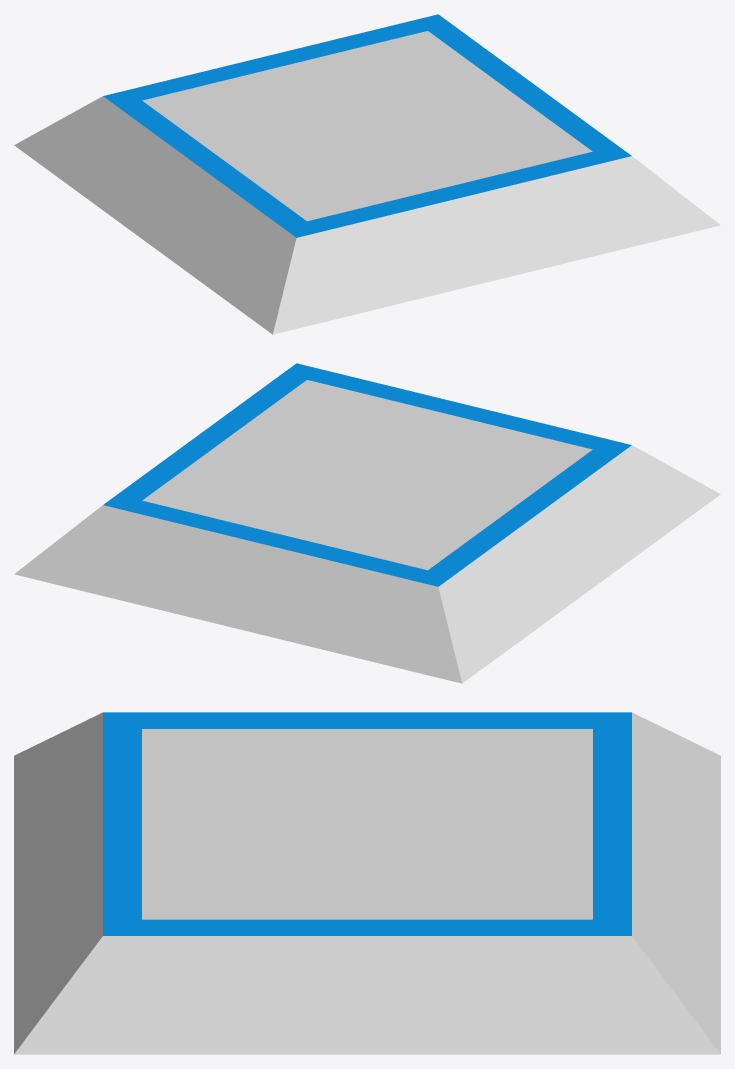
The model's file is door.fbx.
3 views of the same model, one above another, from view 1: azimuth 30°, elevation 25°; view 2: azimuth 150°, elevation 25°; view 3: azimuth 270°, elevation 25° (orthographic). The views are drawn at different scales.
Parts seen in each view (by area): view 1: Door; view 2: Door; view 3: Door.
Part boxes in pixels (<box>): Door: <box>14,14,720,334</box>; Door: <box>14,363,720,683</box>; Door: <box>14,712,720,1054</box>.
Bounding box in the file's own units: 1 × 1 × 0.1263.
